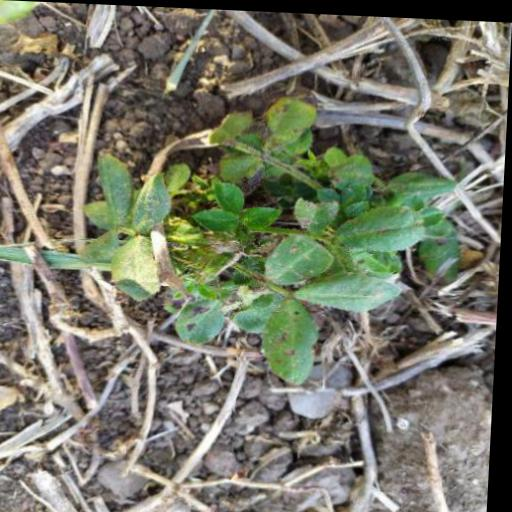weed: (80, 85, 474, 386)
